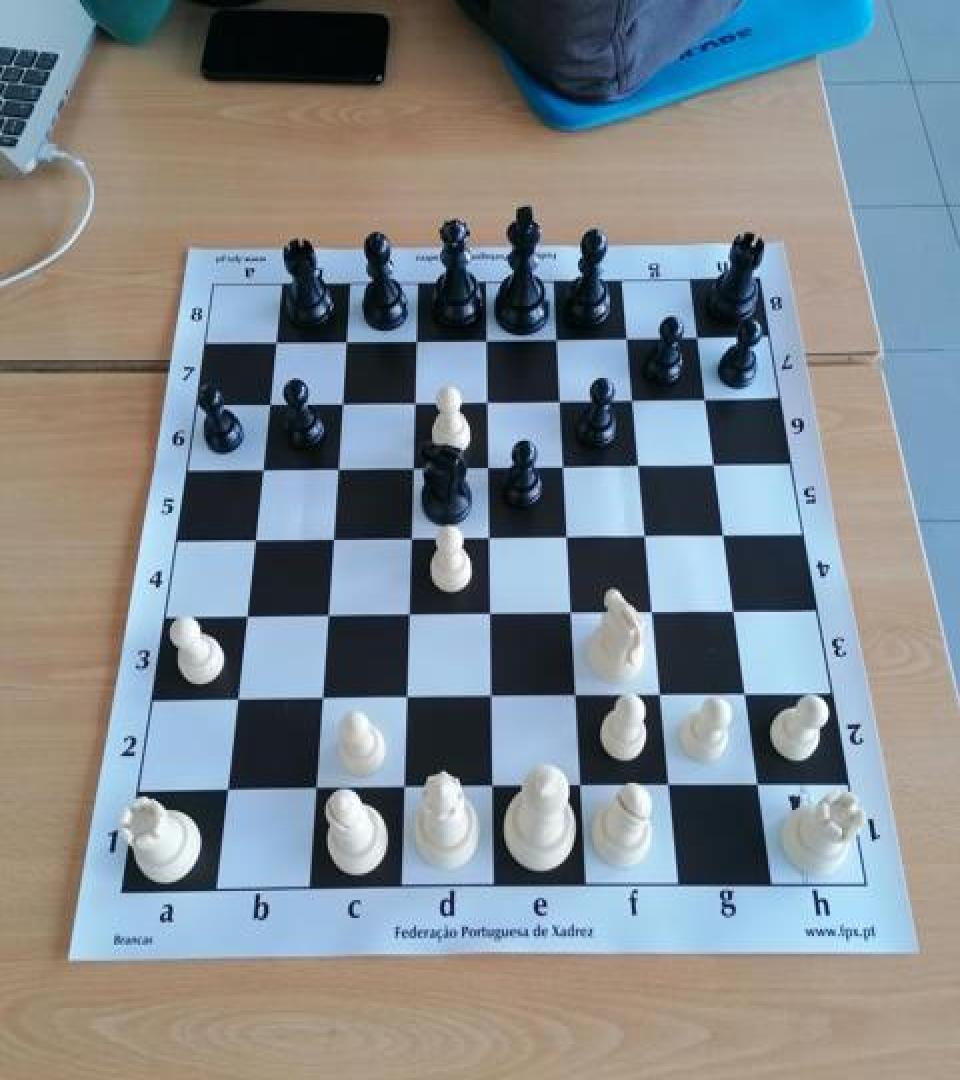xcorner: (297, 770, 329, 807), (387, 770, 419, 807), (476, 770, 508, 807), (566, 769, 598, 806), (656, 769, 688, 806), (746, 769, 778, 806), (258, 323, 290, 359), (252, 385, 284, 421), (244, 450, 276, 486), (236, 521, 268, 557), (228, 598, 260, 634), (219, 680, 251, 716), (208, 772, 240, 808), (329, 322, 361, 358), (320, 450, 352, 486), (315, 521, 347, 557), (310, 598, 342, 634), (304, 680, 336, 716), (400, 322, 432, 358), (398, 382, 430, 418), (396, 449, 428, 485), (394, 520, 426, 556), (392, 596, 424, 632), (389, 680, 421, 716), (470, 320, 502, 356), (471, 382, 503, 418), (472, 448, 504, 484), (473, 520, 505, 556), (474, 596, 506, 632), (475, 680, 507, 716), (541, 320, 573, 356), (545, 382, 577, 418), (548, 448, 580, 484), (552, 518, 584, 554), (556, 595, 588, 631), (561, 680, 593, 716), (612, 320, 644, 356), (618, 380, 650, 416), (625, 446, 657, 482), (631, 518, 663, 554), (639, 595, 671, 631), (647, 678, 679, 714), (684, 318, 716, 354), (692, 380, 724, 416), (711, 518, 743, 554), (722, 594, 754, 630), (733, 678, 765, 714), (325, 384, 357, 419), (701, 446, 733, 481)
